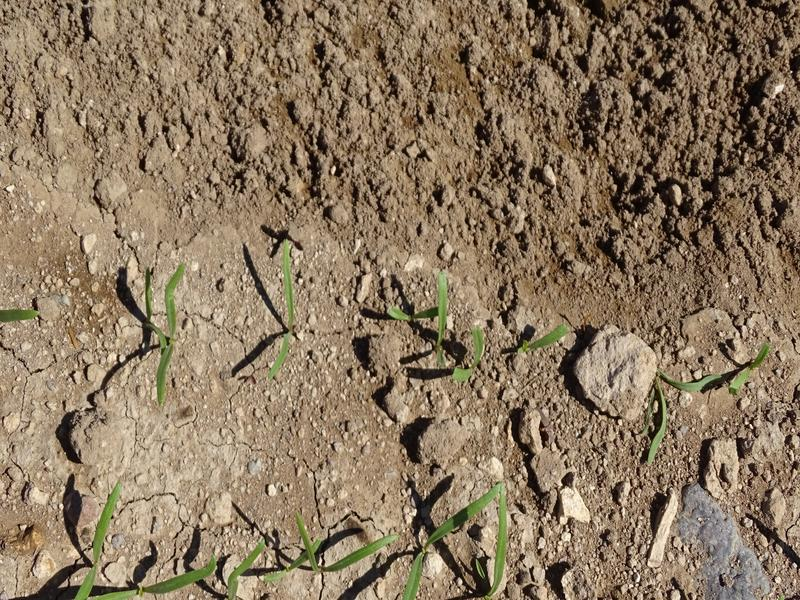Espinaca: (400, 478, 509, 600), (74, 542, 268, 600), (418, 275, 491, 380), (650, 368, 714, 460), (146, 266, 184, 403), (282, 530, 397, 575), (271, 242, 293, 377)
